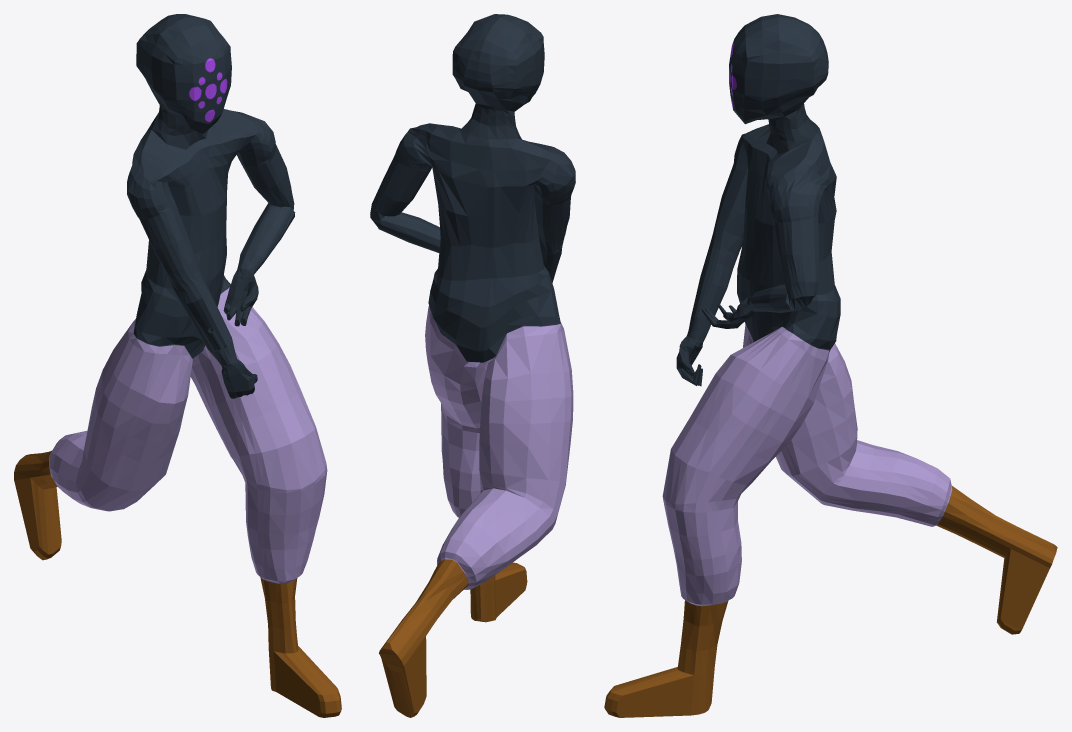
The model's file is Oracle_Run_000028.obj.
3 renders of one model, left to right at view 1: azimuth 30°, elevation 25°; view 2: azimuth 150°, elevation 25°; view 3: azimuth 270°, elevation 25°, orthographic. The views are drawn at different scales.
Parts seen in each view (by area): view 1: Cube; view 2: Cube; view 3: Cube.
Boxes of the visible parts, box(x1,y1,x2,y2) form: Cube: box(14, 14, 341, 717); Cube: box(370, 14, 575, 717); Cube: box(604, 14, 1057, 717).
Size of the model in its own units: 1.19 by 3.73 by 2.31.
